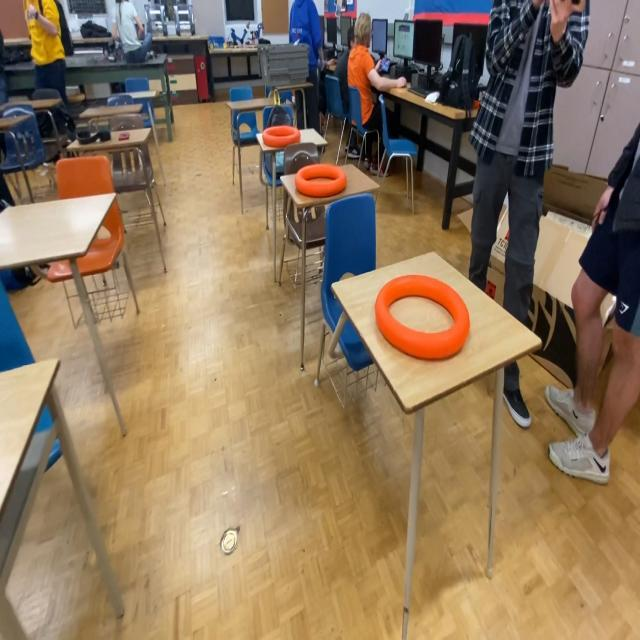note: (375, 274, 471, 360), (296, 162, 348, 200), (264, 124, 299, 146)
